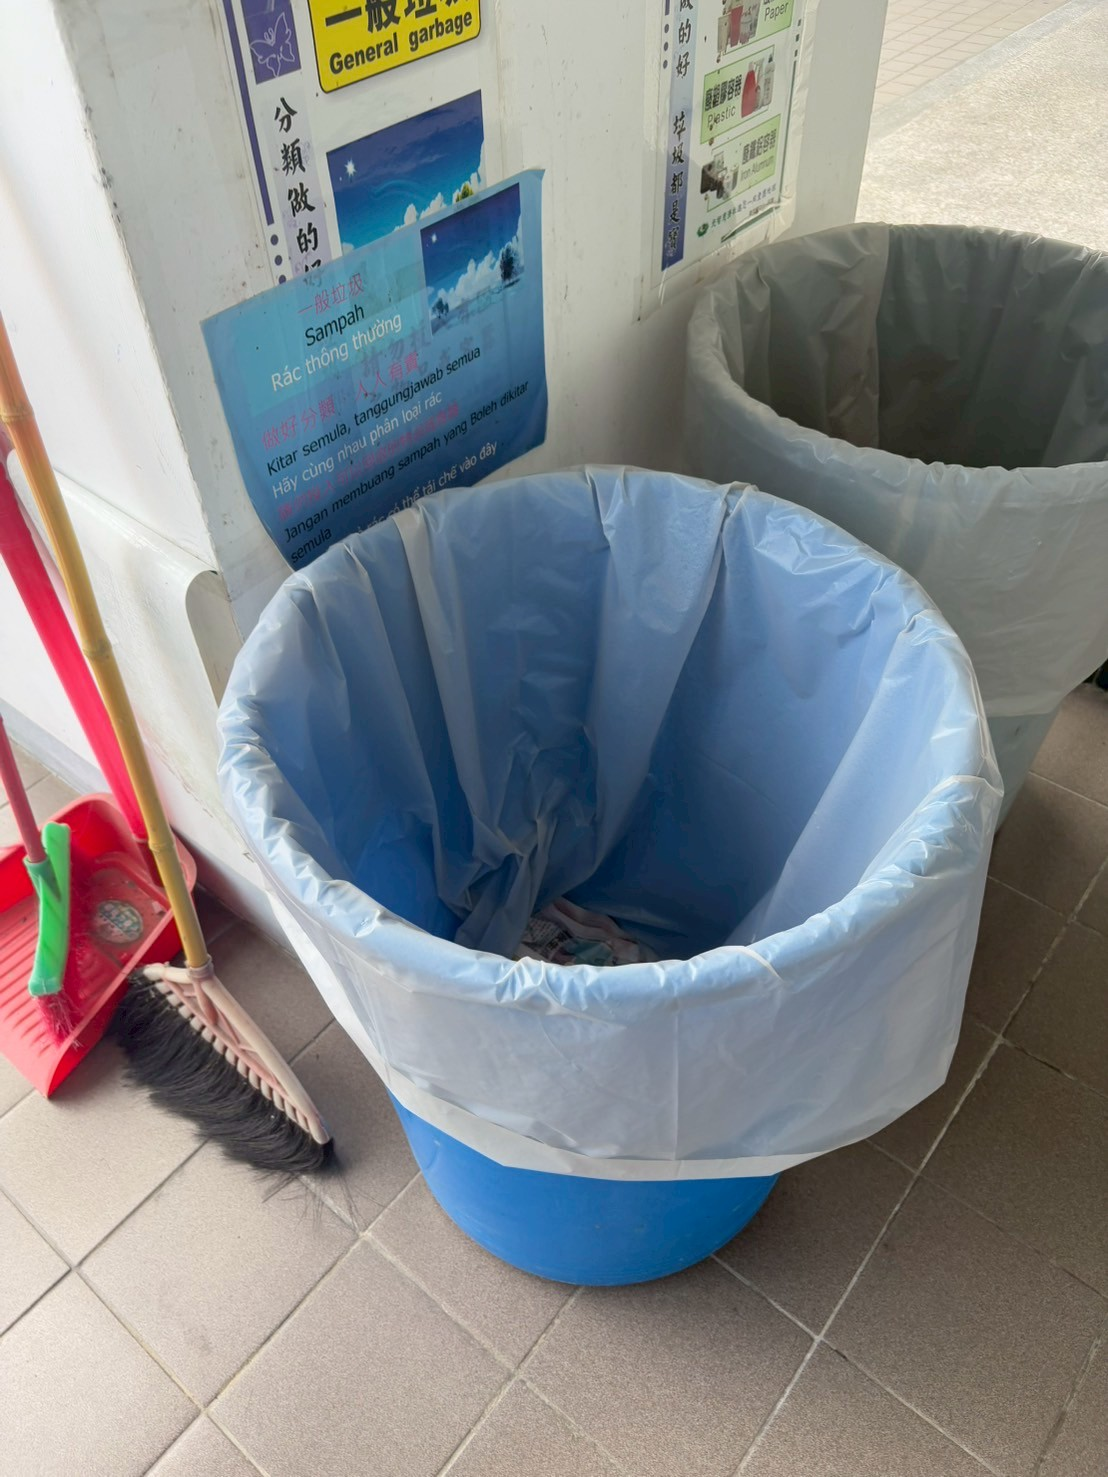normal_bin: (189, 448, 1040, 1341)
